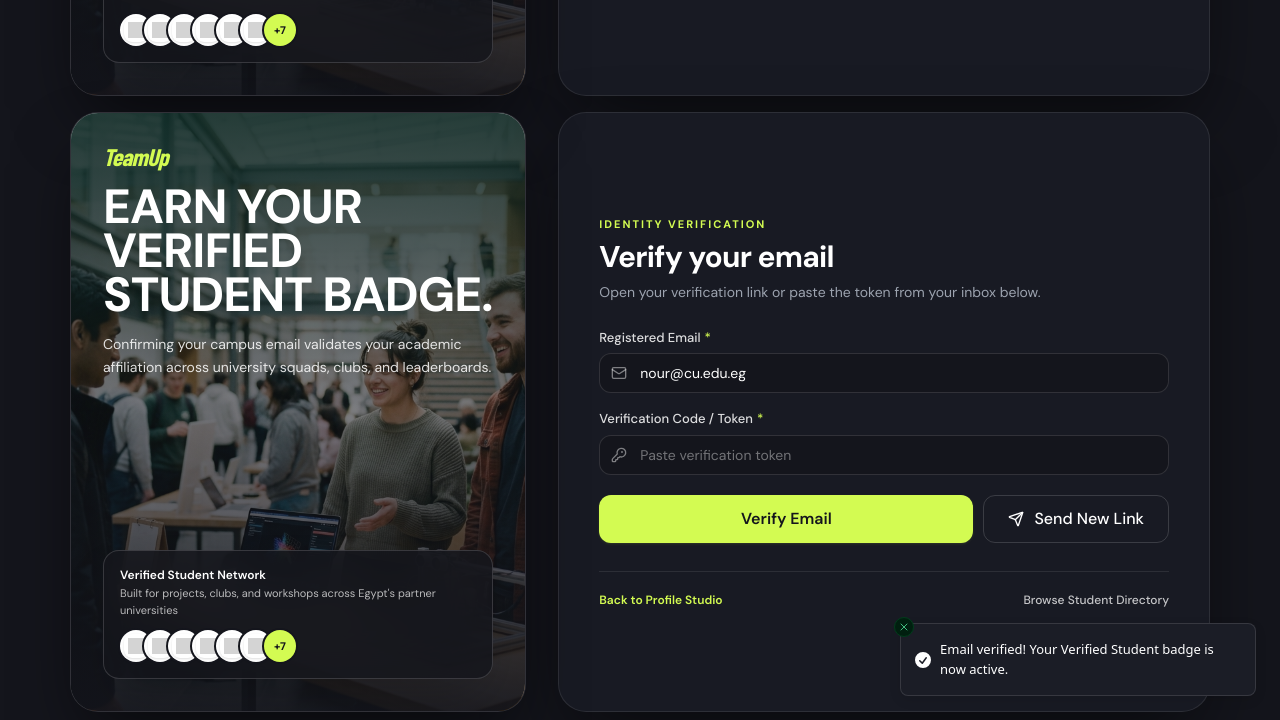
it: Verified Student, Authorization, Explore Style & Clickable Surfaces › VerifyEmailPage verifies tokenized email link and handles invalid token error
This screenshot has width=1280, height=720.
(page scrolled)
Type "bad_tok" into the field with placeholder "Paste verification token" at point(884, 455), box [599,435,1169,475]
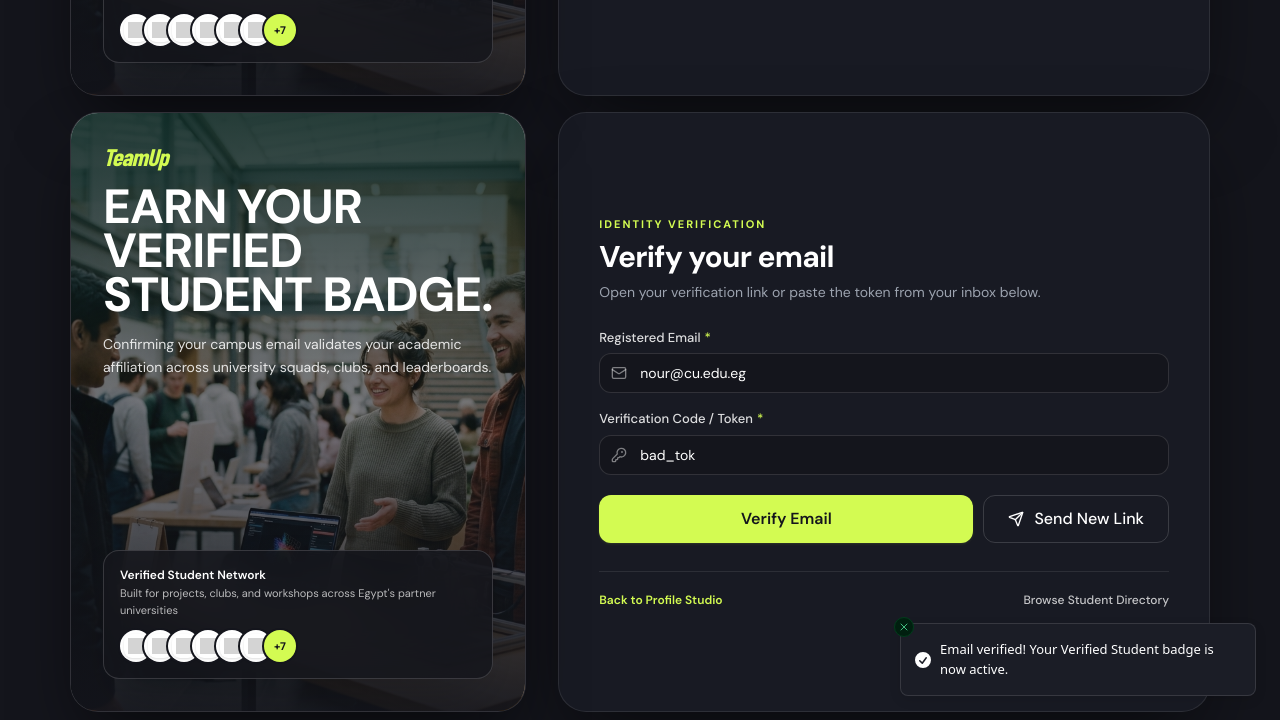
Click the button "Verify Email" at point(786, 519), box [599,495,973,543]
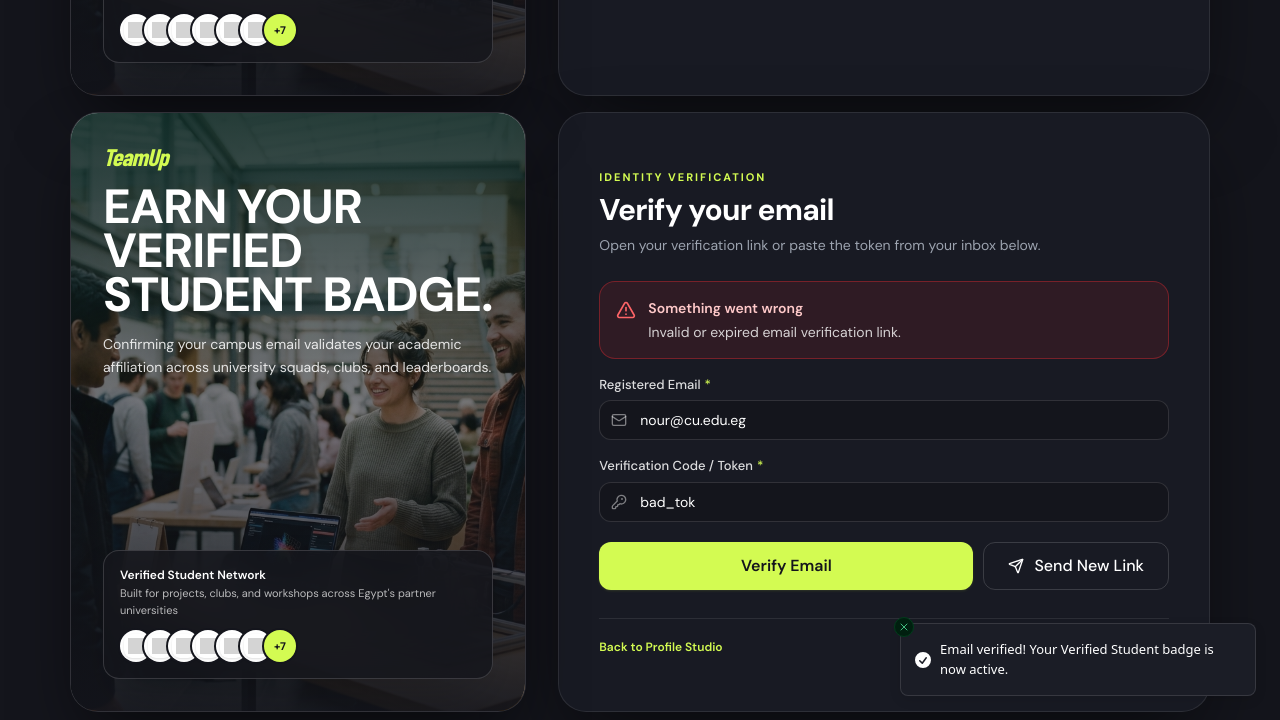
Now the text "Invalid or expired email verification link." is shown, box [648,322,901,342]
